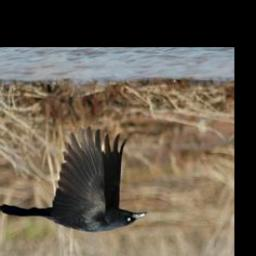Crow: (0, 126, 149, 234)
